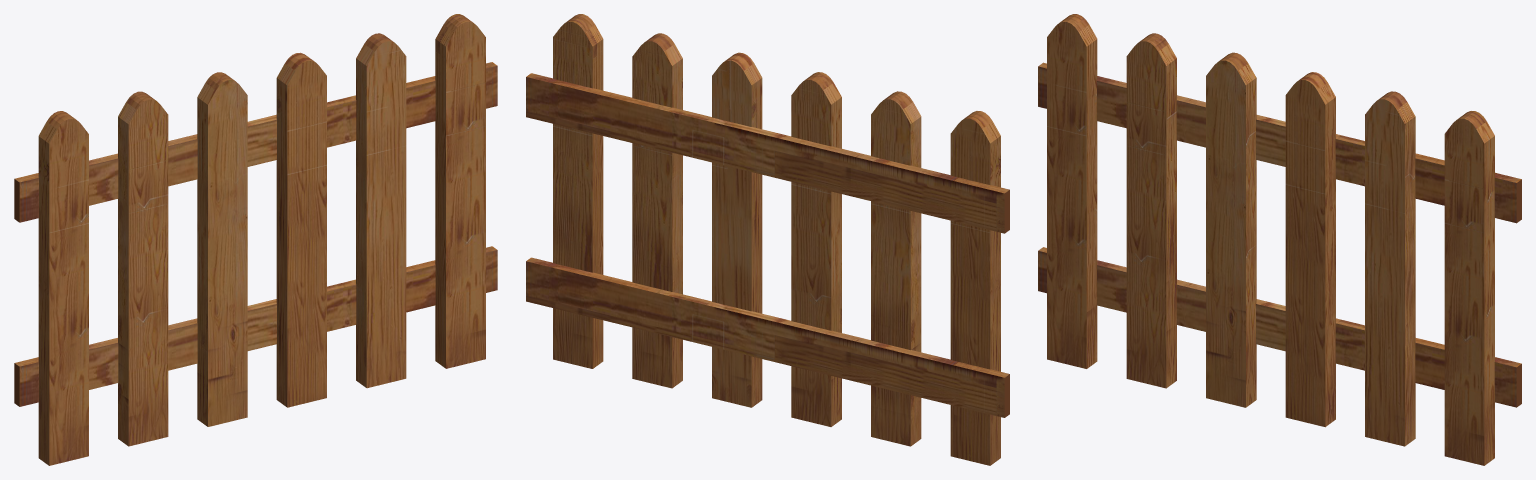
File: Woodfence.FBX
The picture shows the model from 3 angles, left to right: view 1: azimuth 30°, elevation 25°; view 2: azimuth 150°, elevation 25°; view 3: azimuth 330°, elevation 25°; orthographic projection.
Parts seen in each view (by area): view 1: Cube.002; view 2: Cube.002; view 3: Cube.002.
Part boxes in pixels (x1,y1,x2,y2): Cube.002: (14,14,497,465); Cube.002: (526,14,1009,465); Cube.002: (1038,14,1521,465).
Size of the model in its own units: 69.5 by 47.52 by 3.96.
1 material, 1 textured.
